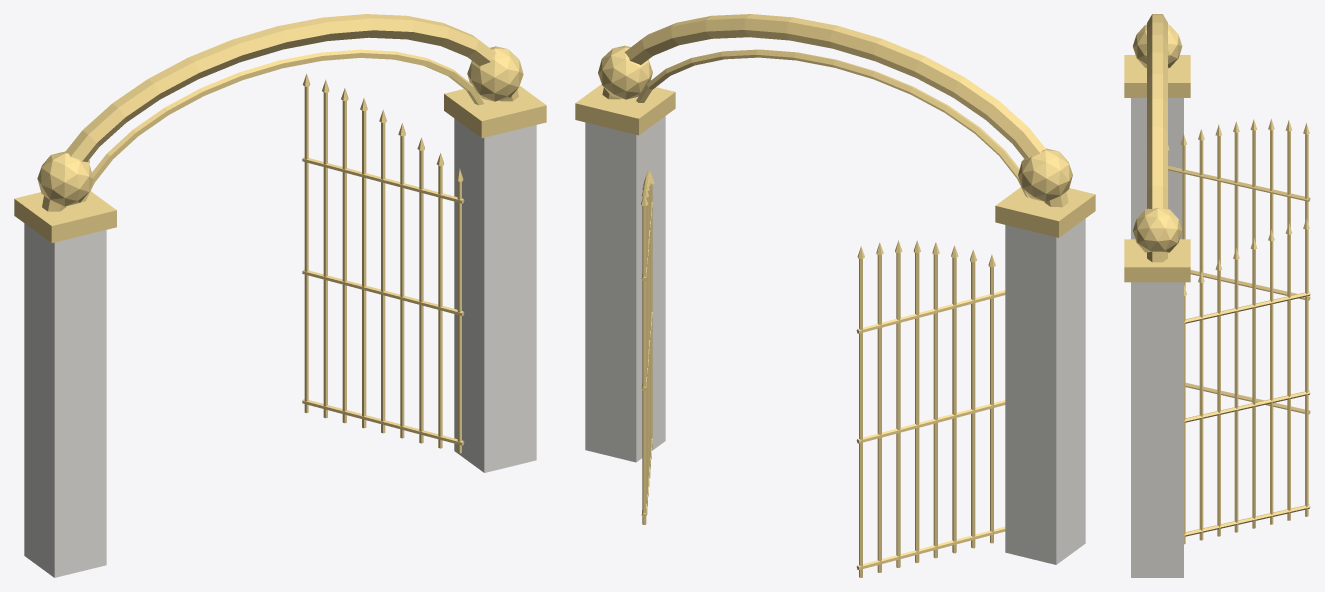
The model's file is Gate.obj.
3 renders of one model, left to right at view 1: azimuth 30°, elevation 25°; view 2: azimuth 150°, elevation 25°; view 3: azimuth 270°, elevation 25°, orthographic. The views are drawn at different scales.
Parts seen in each view (by area): view 1: Gate; view 2: Gate; view 3: Gate.
Part boxes in pixels (x1,y1,x2,y2): Gate: (14, 14, 546, 577); Gate: (575, 14, 1095, 577); Gate: (1124, 14, 1310, 577).
Bounding box in the file's own units: 15.2 × 14.08 × 5.62.
1 material, 1 textured.
